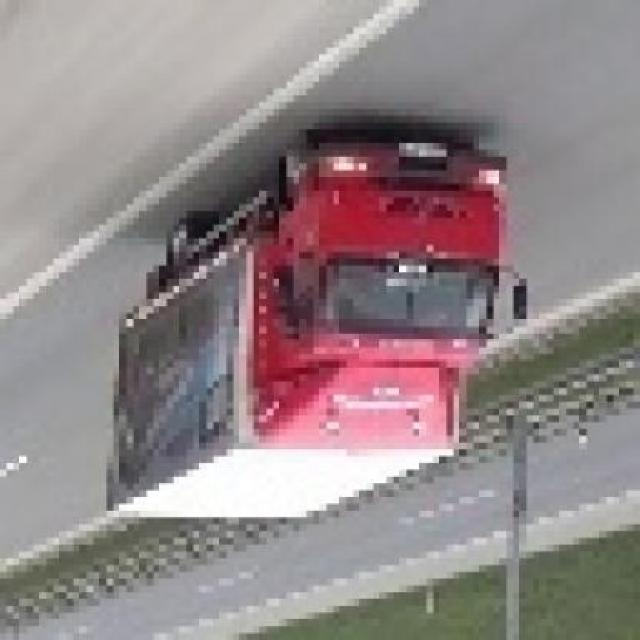truck: (114, 137, 534, 533)
